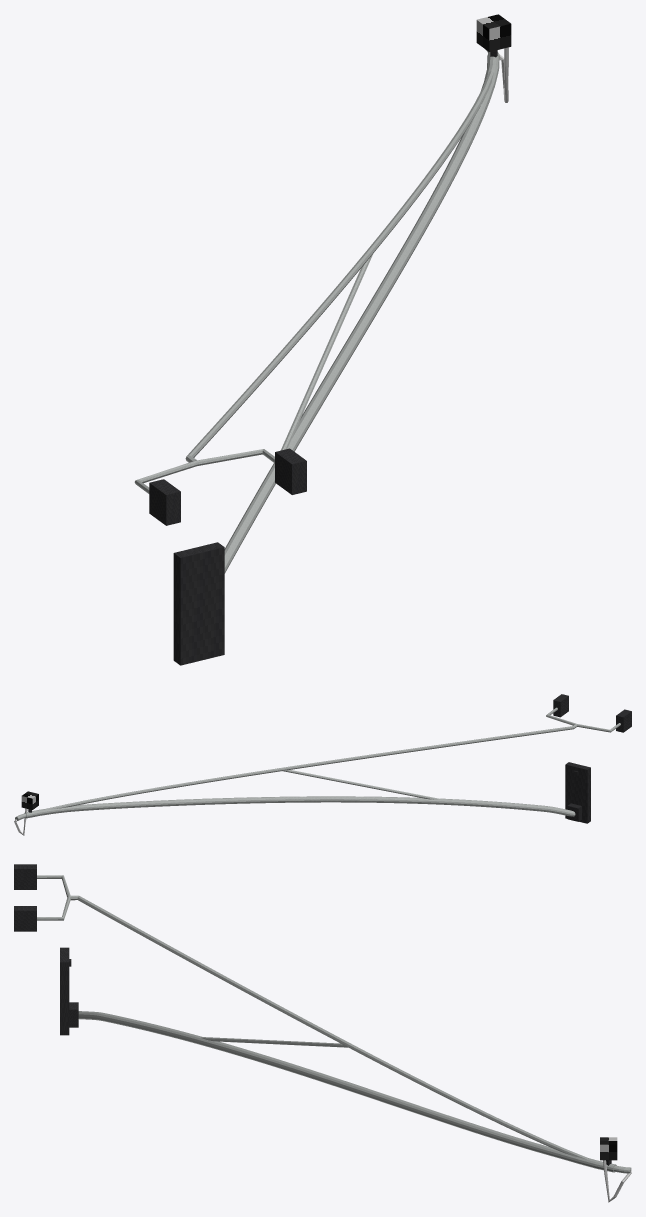
Rendered from arm_8_right_wired.obj.
3 renders of one model, top to bottom at view 1: azimuth 30°, elevation 25°; view 2: azimuth 150°, elevation 25°; view 3: azimuth 270°, elevation 25°, orthographic. The views are drawn at different scales.
Parts seen in each view (by area): view 1: pole_light_mount_8_right_wired; view 2: pole_light_mount_8_right_wired; view 3: pole_light_mount_8_right_wired.
Part boxes in pixels (<box>): pole_light_mount_8_right_wired: <box>134,14,511,665</box>; pole_light_mount_8_right_wired: <box>14,694,631,835</box>; pole_light_mount_8_right_wired: <box>14,864,631,1202</box>.
Size of the model in its own units: 6.69 by 1.68 by 6.7.
